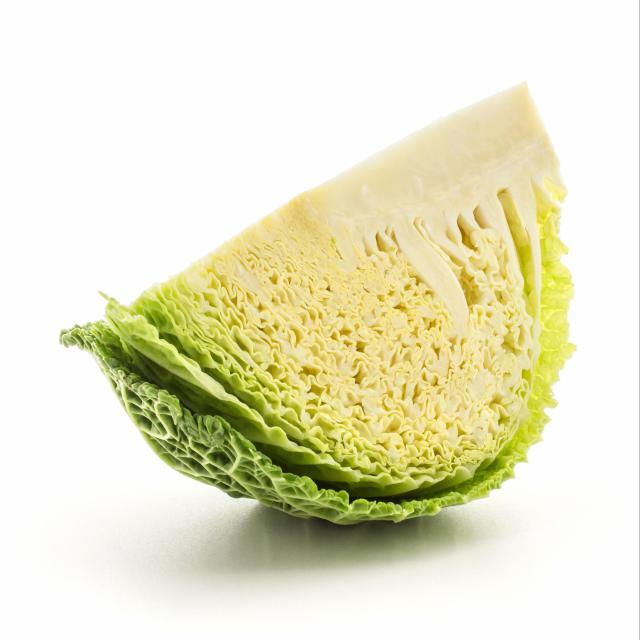cabbage: (52, 73, 583, 537)
